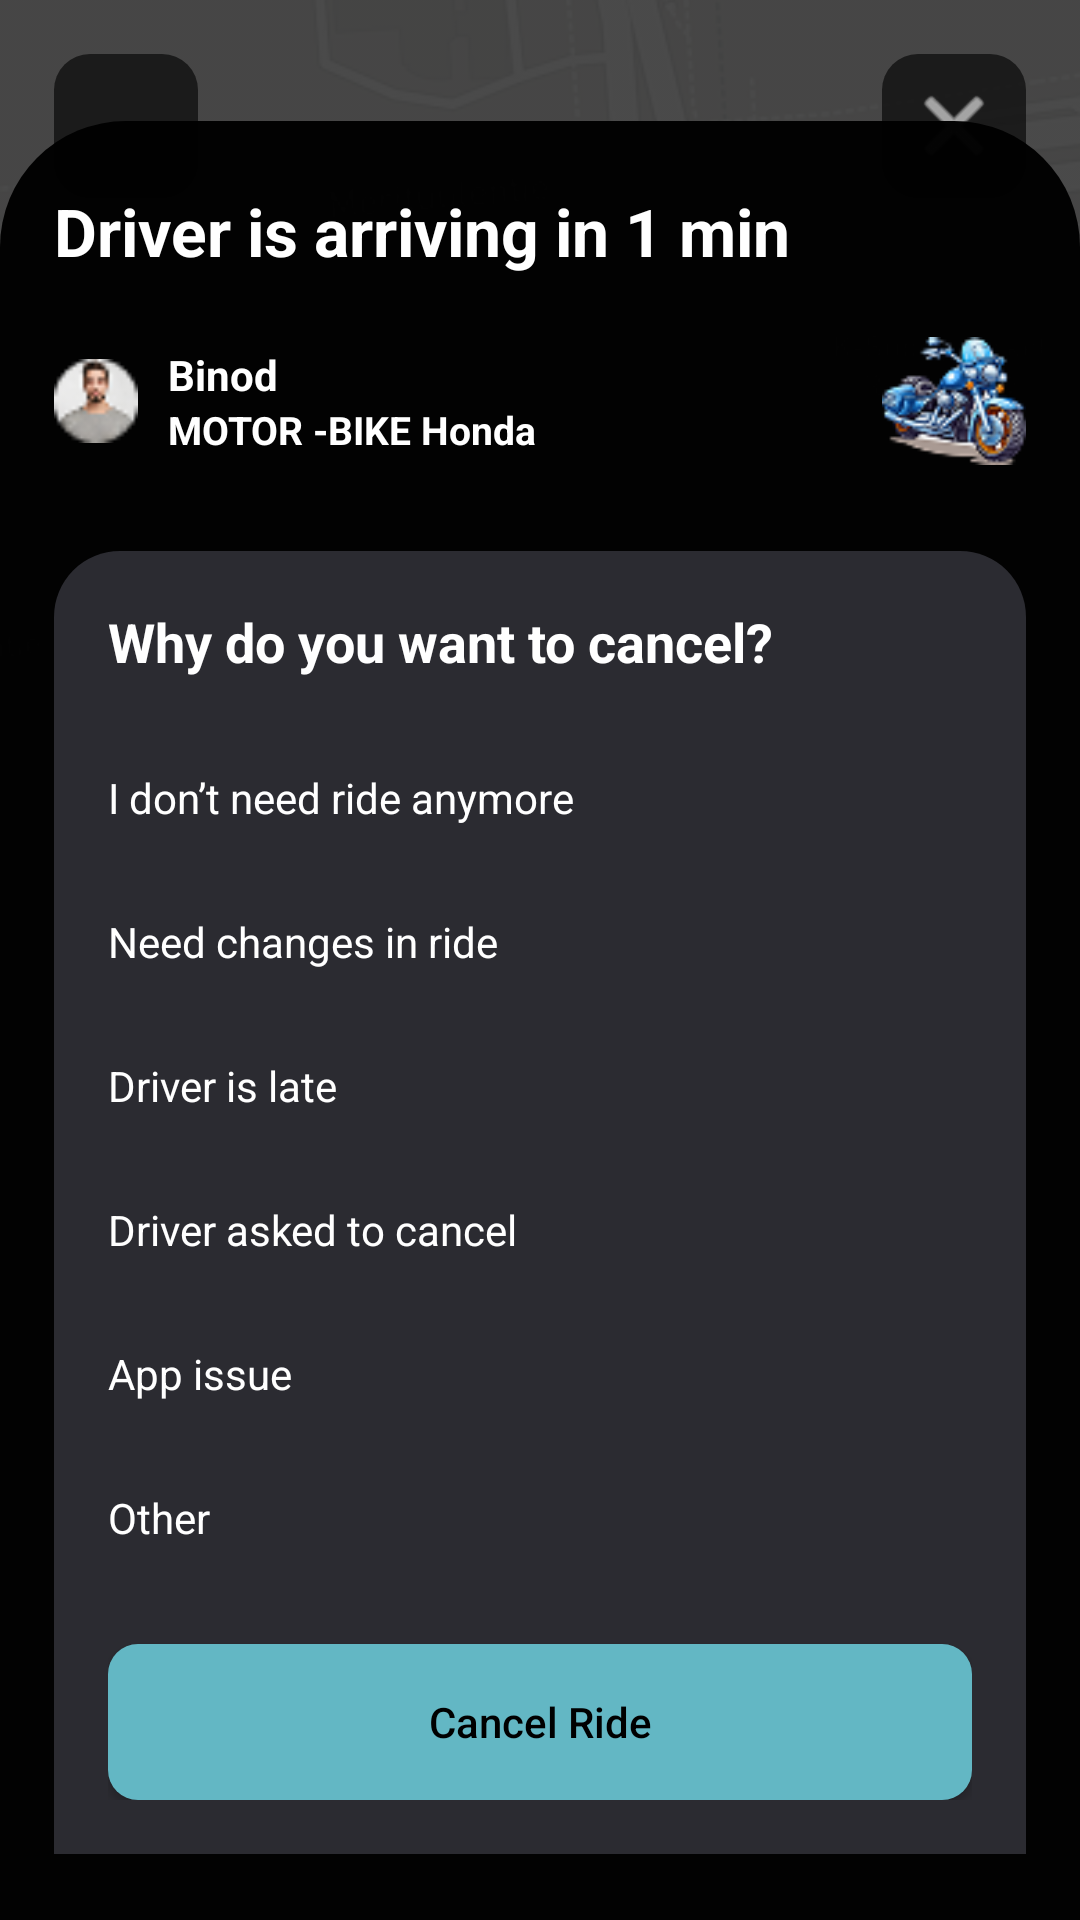

Icons on this 1080 × 1920 Android screen, each with the point to tap as [x,y]:
Driver profile: [96,401]
Motor bike: [954,401]
